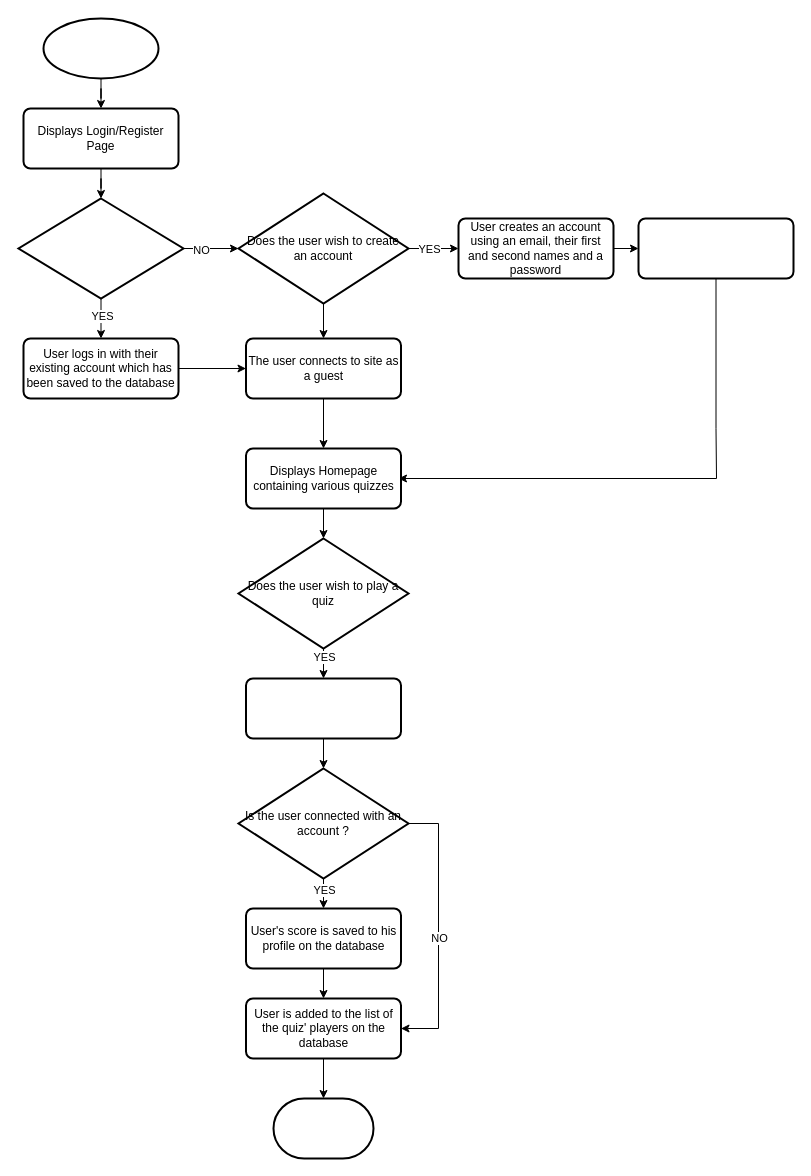
Some shapes in this 811 by 1176 pixel diagram are drawn without their labels. The shapes that lost their labels are listed below. From the top down, each one's centre as x and y in pixels, then its label:
At point 100,48: "User connects to website".
At point 100,248: "Does the user have an existing account ?".
At point 715,248: "User's account is verified and is saved to the site's database".
At point 323,708: "User chooses a quiz of his liking and the quiz begins".
At point 323,1128: "Fin".
